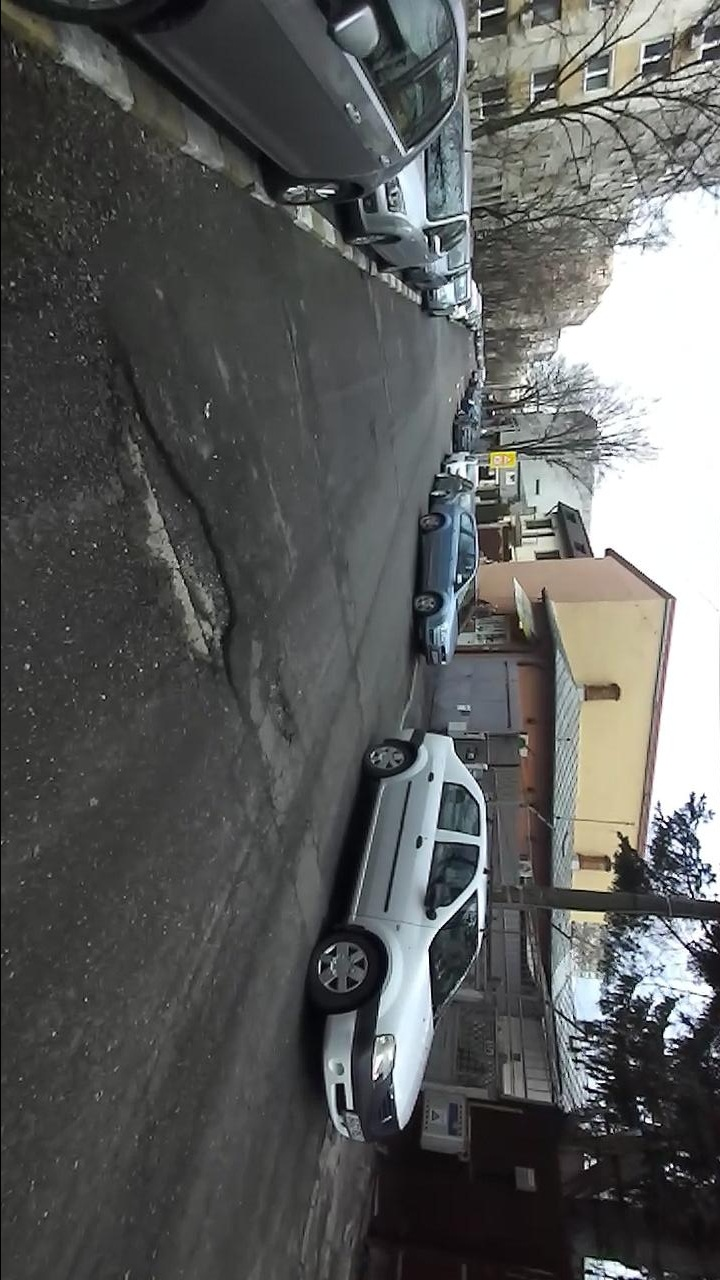pothole: (96, 323, 248, 716), (263, 662, 307, 748), (284, 327, 304, 384)
